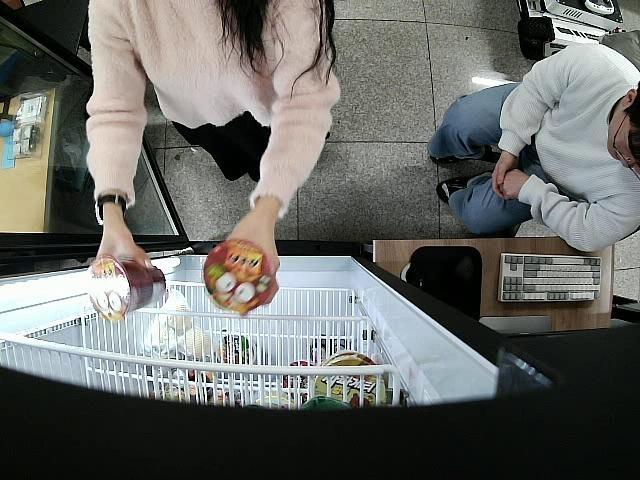06_nuguri_S: (90, 256, 167, 323), (204, 239, 274, 312)
